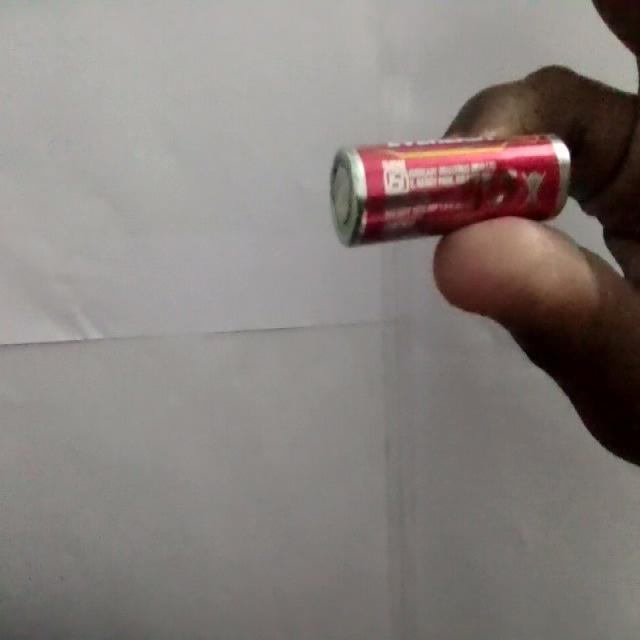battery: (330, 135, 570, 245)
dent: (459, 165, 517, 215)
